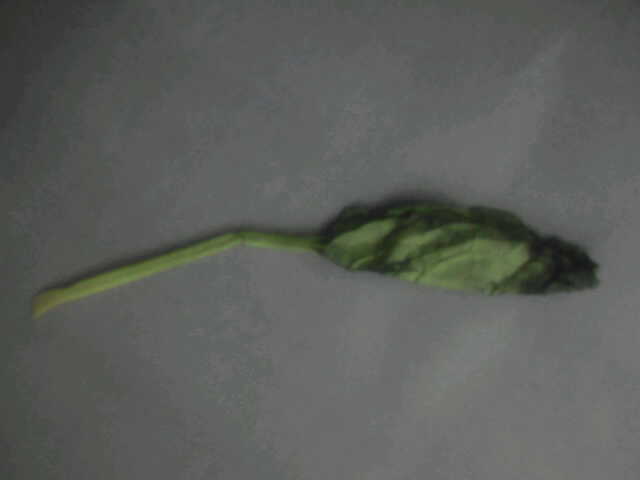yellow: (202, 158, 612, 313)
